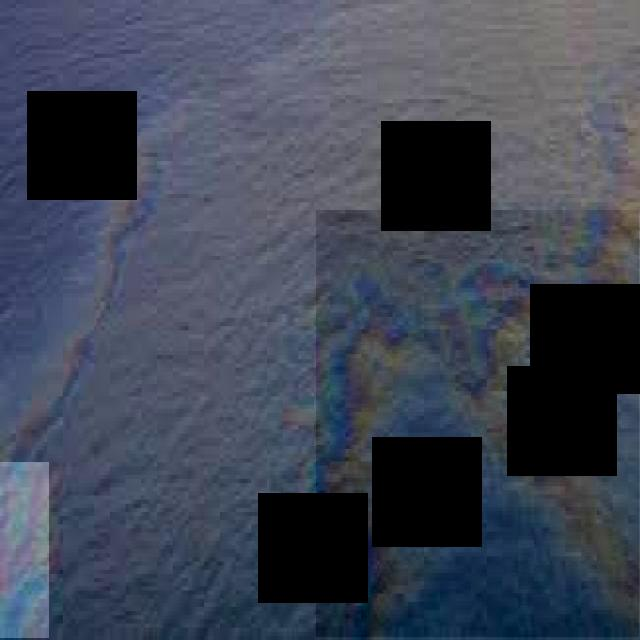oil spill: (316, 210, 640, 637), (0, 463, 49, 638)
